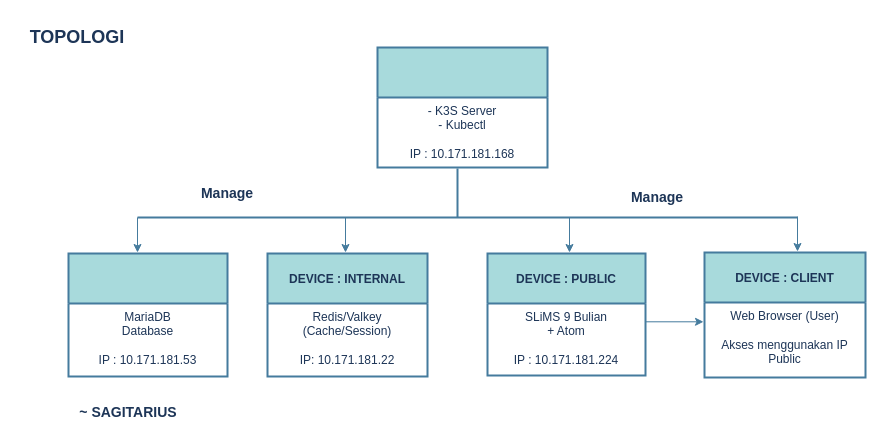
The diagram is 883 pixels wide and 444 high, and some of its shapes have lost their labels. Here are the shapes that lost their labels. From the top down, the box of each, then its label:
(376, 46, 548, 168): DEVICE : CONTROL
(67, 252, 228, 377): DEVICE : DATA
